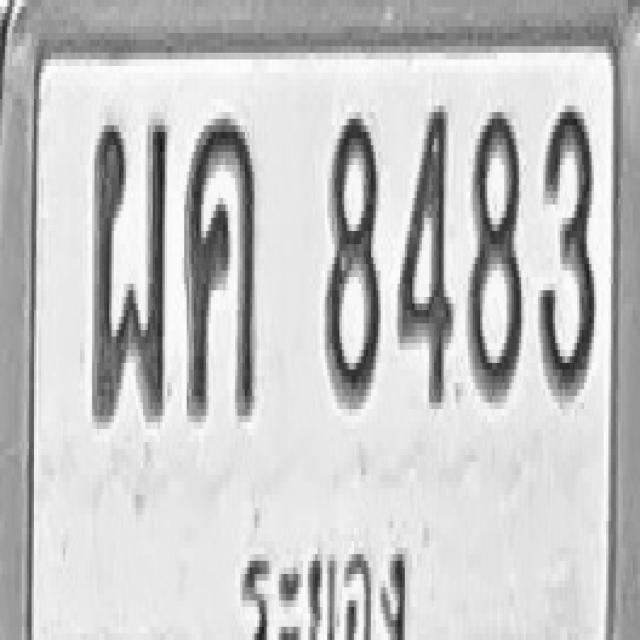13KhorKhwai: (184, 112, 257, 422)
3: (538, 102, 594, 399)
37PhorPhueng: (91, 112, 168, 422)
4: (396, 96, 452, 406)
8: (467, 105, 522, 402), (324, 109, 379, 406)
Rayong: (230, 514, 412, 640)
